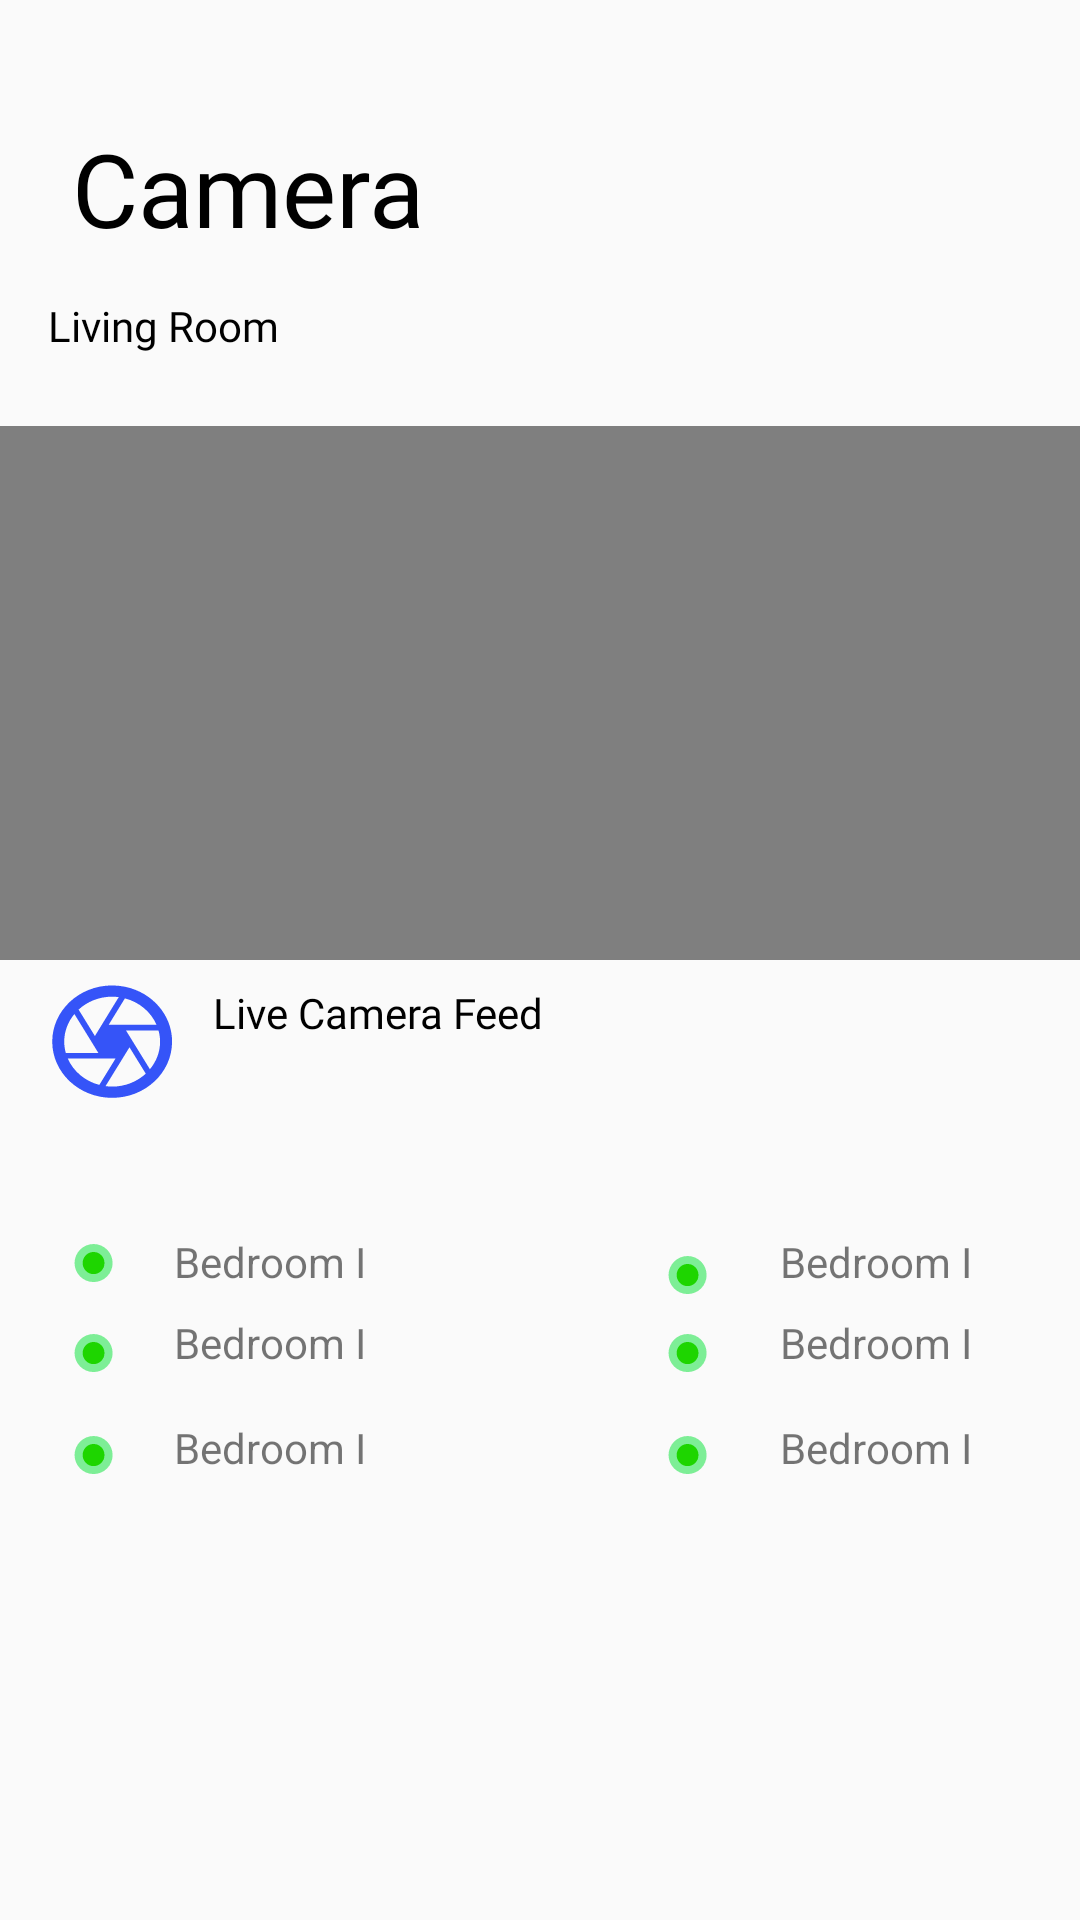

Screen size 1080*1920. Icon name, then its center in pixels as [x,y]:
dot: [93,1263], [687,1275], [93,1353], [687,1353], [93,1455], [687,1455]
